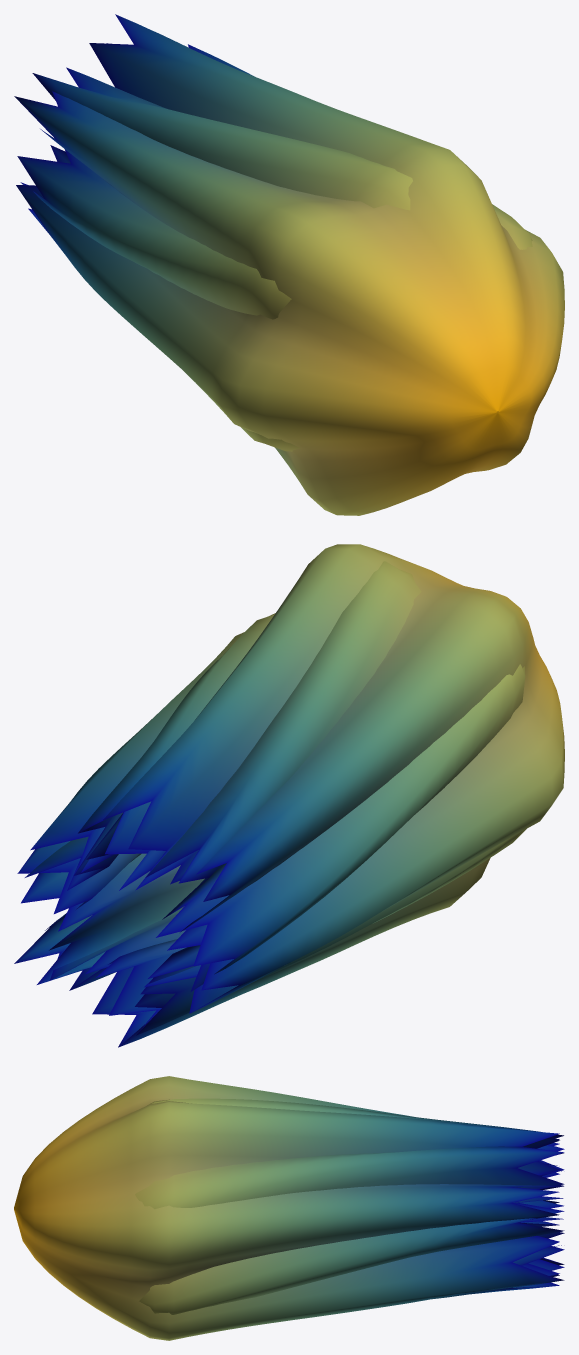
Rendered from vfx_meteor_colossus.glb.
3 views of the same model, one above another, from view 1: azimuth 30°, elevation 25°; view 2: azimuth 150°, elevation 25°; view 3: azimuth 270°, elevation 25° (orthographic). The views are drawn at different scales.
Visible parts, largest first — view 1: meteor_colossus_plasma; view 2: meteor_colossus_plasma; view 3: meteor_colossus_plasma.
Part boxes in pixels (bbox=[...]): meteor_colossus_plasma: bbox=[14, 14, 564, 515]; meteor_colossus_plasma: bbox=[14, 544, 564, 1047]; meteor_colossus_plasma: bbox=[14, 1076, 564, 1340].
Bounding box in the file's own units: 1.73 × 1.69 × 3.55.
